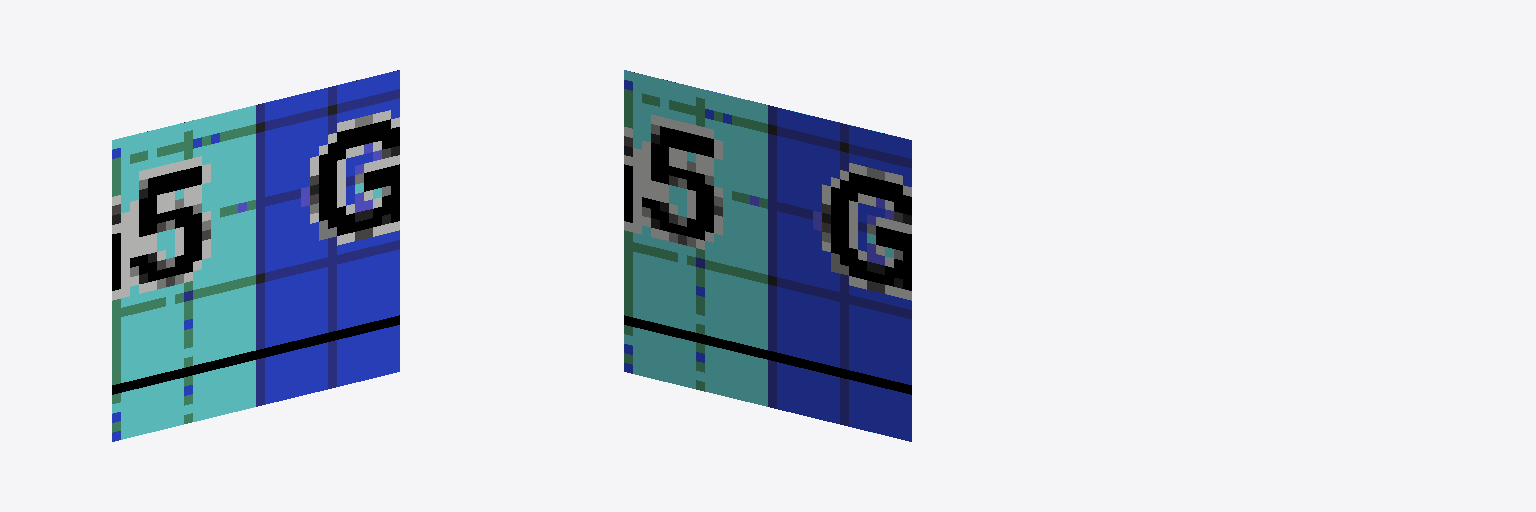
3 views of the same model, side by side, from view 1: azimuth 30°, elevation 25°; view 2: azimuth 150°, elevation 25°; view 3: azimuth 270°, elevation 25° (orthographic).
Parts seen in each view (by area): view 1: cube; view 2: cube; view 3: none.
Part boxes in pixels (bbox=[...]): cube: bbox=[112, 70, 399, 441]; cube: bbox=[624, 70, 911, 441].
Size of the model in its own units: 12 by 12 by 0.01.
1 materials, 1 textured.